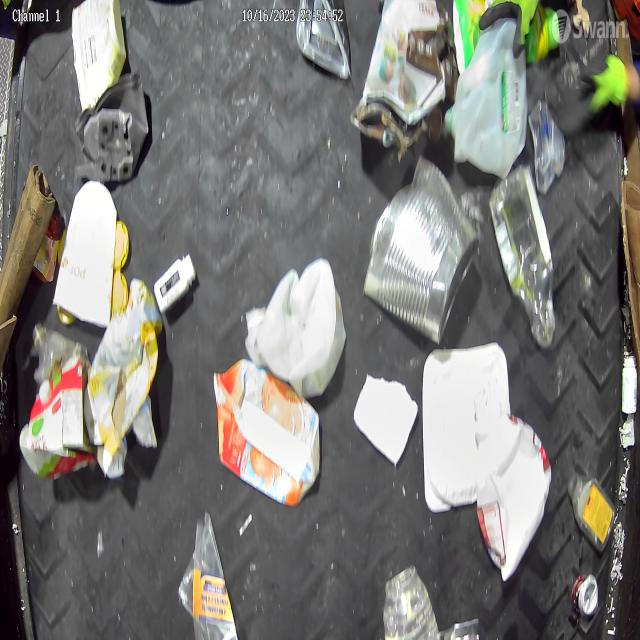can: (365, 155, 475, 346), (572, 573, 600, 617)
milk_jug: (246, 259, 344, 396), (450, 21, 528, 178), (477, 420, 553, 579)
non_white_jug: (213, 358, 322, 506), (84, 276, 163, 478), (18, 356, 94, 482), (453, 0, 560, 62)
plastic_bottle: (492, 166, 555, 345), (32, 324, 92, 386)
